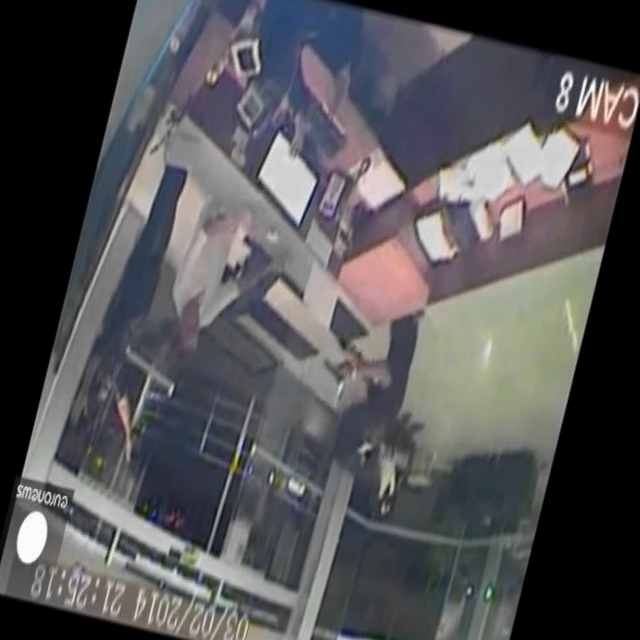gun: (317, 352, 354, 389)
